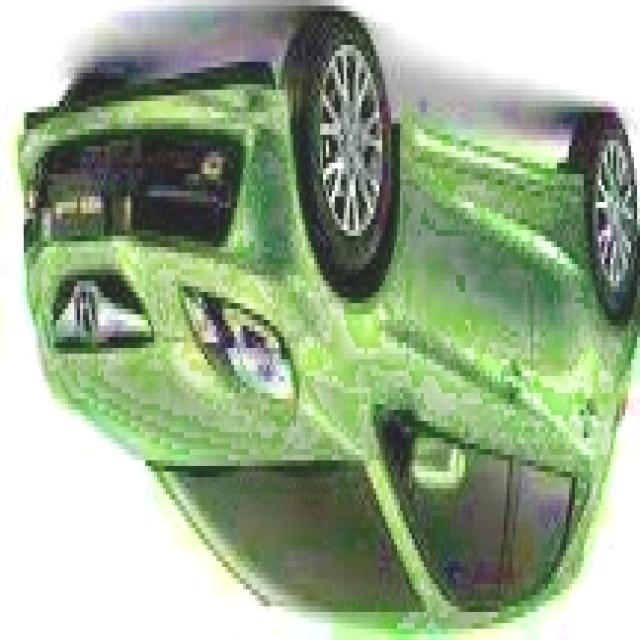green: (23, 62, 640, 640)
